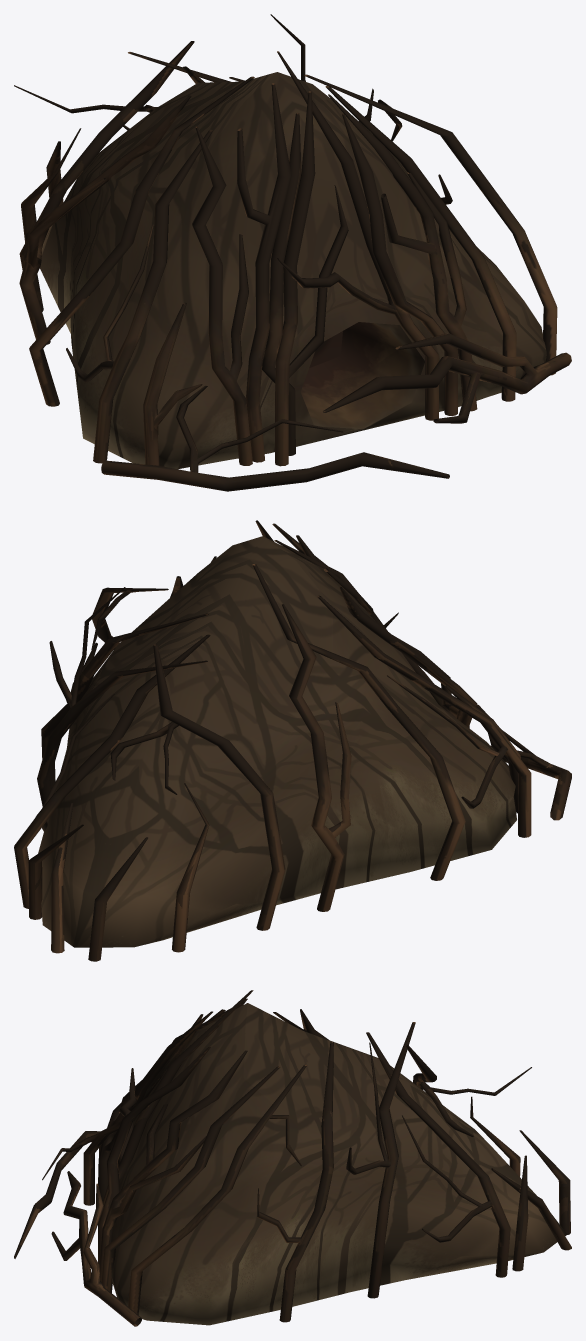
Rendered from Beaver_House_Burned.fbx.
3 renders of one model, top to bottom at view 1: azimuth 30°, elevation 25°; view 2: azimuth 150°, elevation 25°; view 3: azimuth 270°, elevation 25°, orthographic. The views are drawn at different scales.
Parts seen in each view (by area): view 1: Beaver House, Branches; view 2: Beaver House, Branches; view 3: Beaver House, Branches.
Boxes of the visible parts, x1,y1,x2,y2 form: Beaver House: [40, 72, 546, 469]; Branches: [14, 14, 571, 491]; Beaver House: [38, 536, 516, 947]; Branches: [14, 520, 571, 961]; Beaver House: [111, 1003, 567, 1325]; Branches: [14, 990, 571, 1326].
Bounding box in the file's own units: 1225 × 806 × 1569.
1 material, 1 textured.
